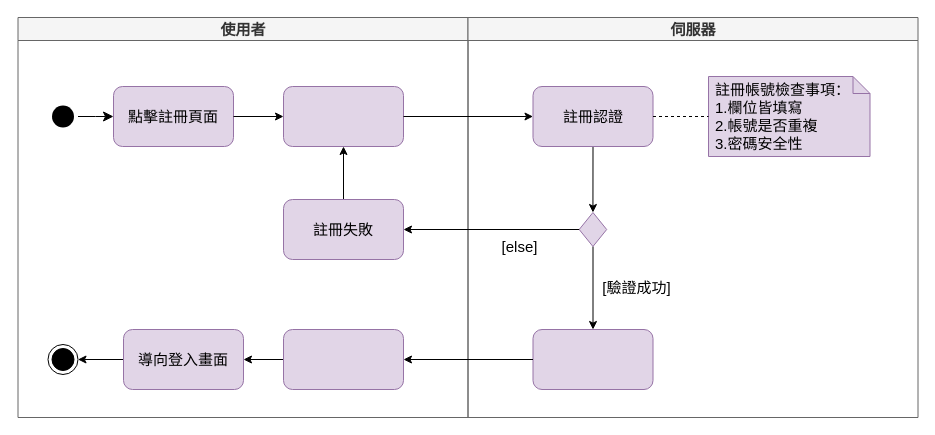
The diagram is 935 pixels wide and 435 high, and some of its shapes have lost their labels. The centre of each missing label's shape, as x and y in pixels:
成功新增使用者: (592,359)
註冊成功: (343,359)
輸入註冊表單: (343,116)
